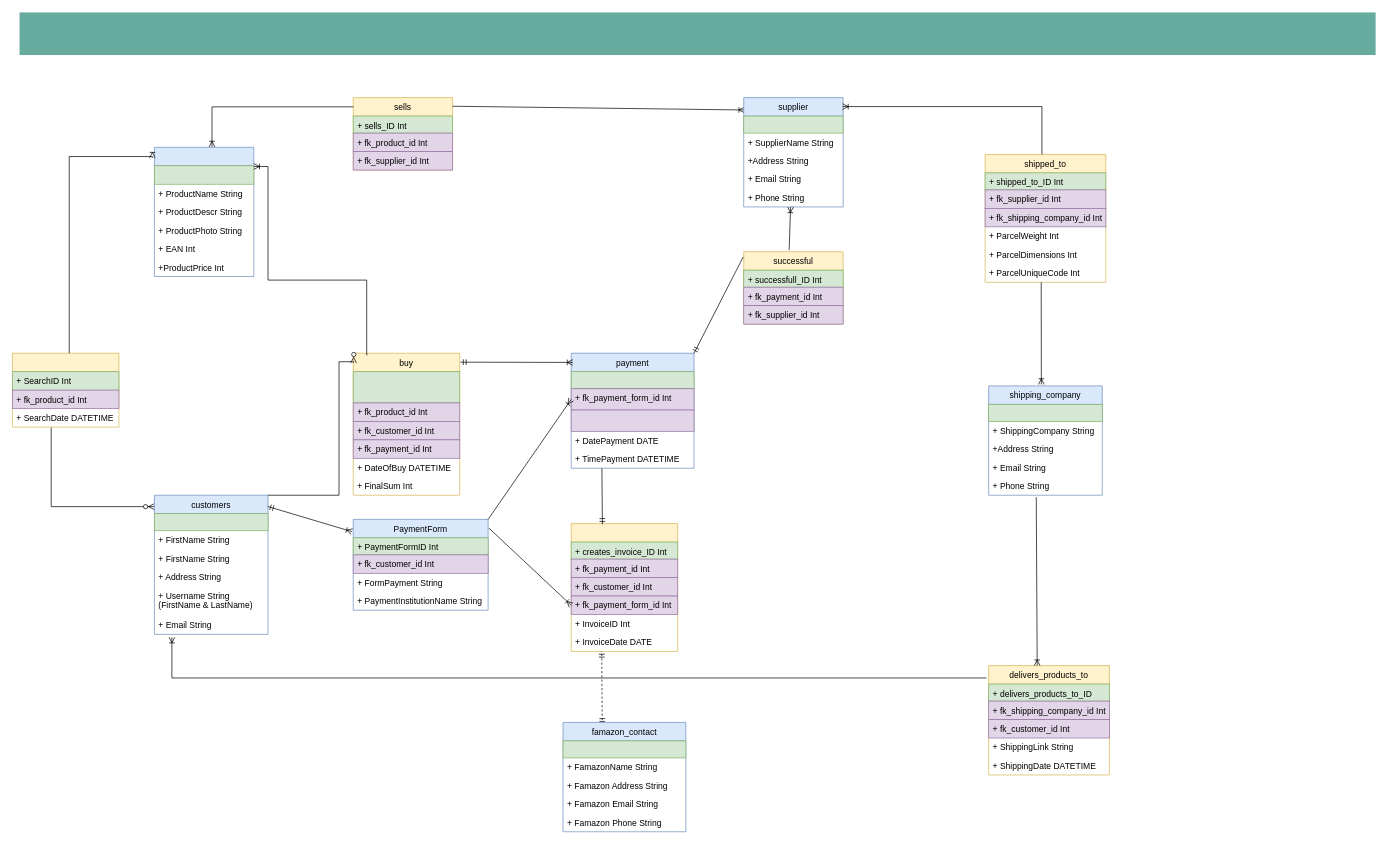
Image size: 1388x846. Some labels were removed from this diagram. The shapes that lost their labels are listed below. From the top down, each one's box as (x1, y1, x2, y2) in pixels, then its label:
(19, 12, 1375, 55): Step 4: Normalization - 4NF
(743, 115, 843, 133): + SupplierID Int
(154, 165, 254, 184): + ProductID Int
(154, 147, 254, 277): products
(12, 353, 119, 427): searches
(353, 371, 460, 403): + buy_ID String (ProductId & DateOfBuy)
(570, 371, 694, 389): + PaymentID Int
(570, 409, 694, 431): + fk_buy_id Int
(988, 404, 1102, 421): + ShippingCompanyID Int
(154, 513, 268, 531): + CustomerID Int
(570, 523, 678, 651): creates_invoice_for
(562, 740, 686, 758): + FamazonContactID Int
